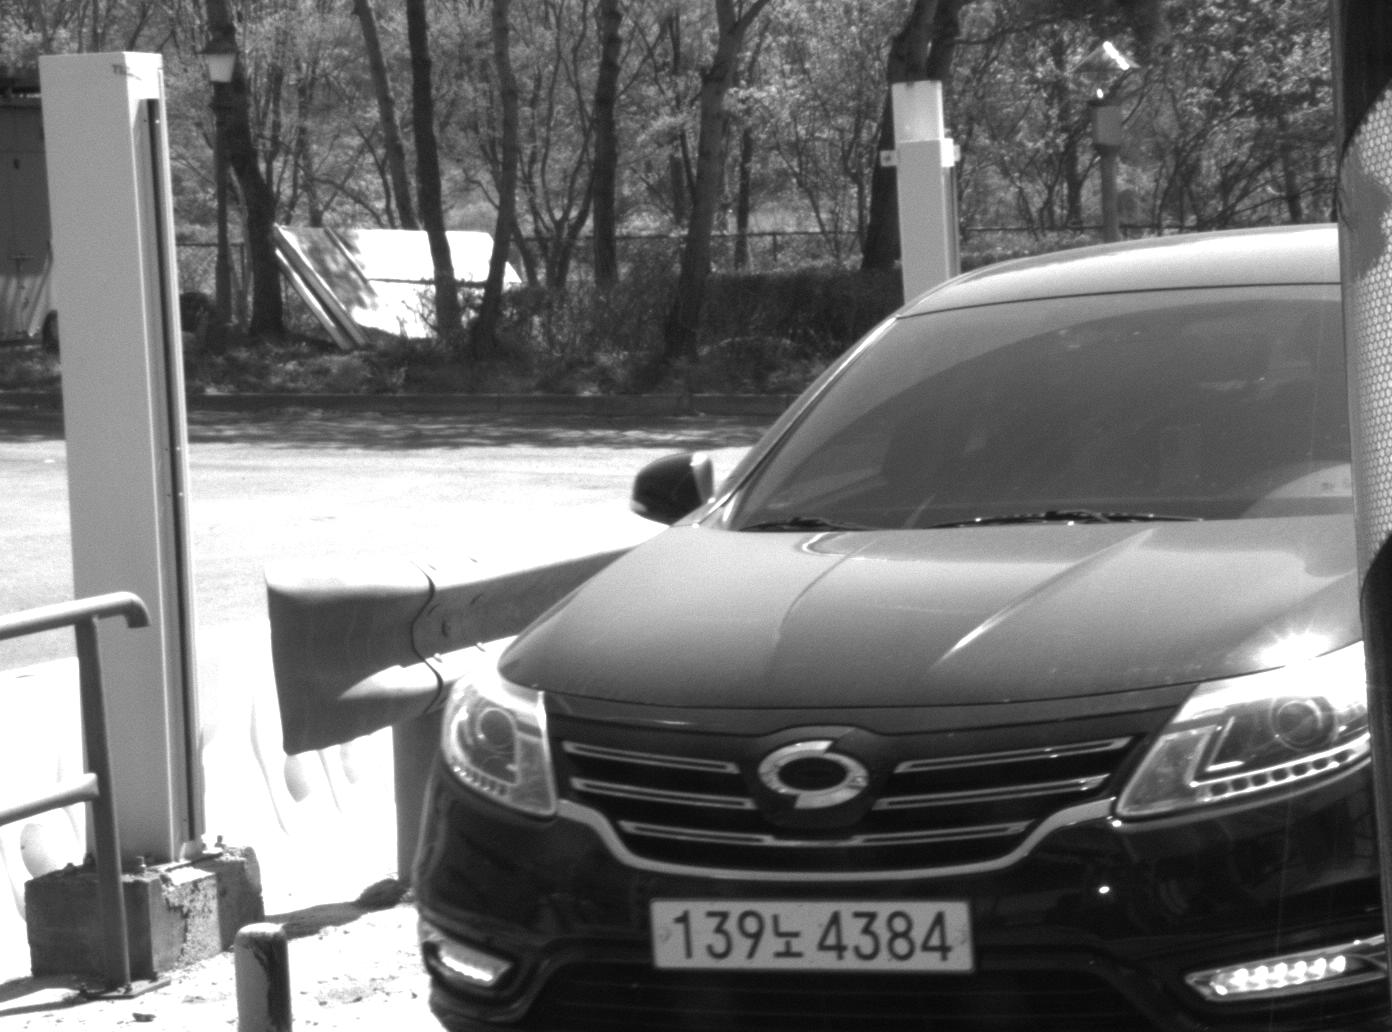car: (406, 217, 1347, 1032)
plate: (645, 890, 979, 974)
